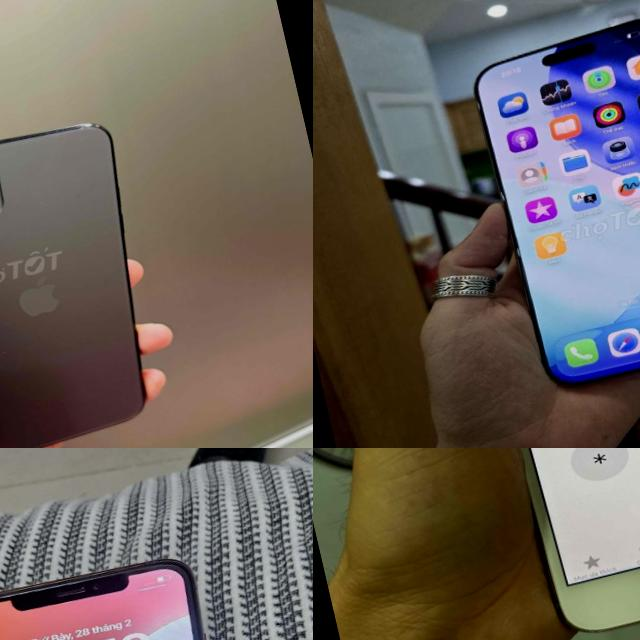gen_11: (0, 124, 142, 448)
gen_16: (442, 0, 640, 413)
gen_7_8: (427, 448, 640, 640)
gen_x_xs: (0, 535, 285, 640)
scratch: (52, 118, 101, 143), (0, 337, 18, 367)
